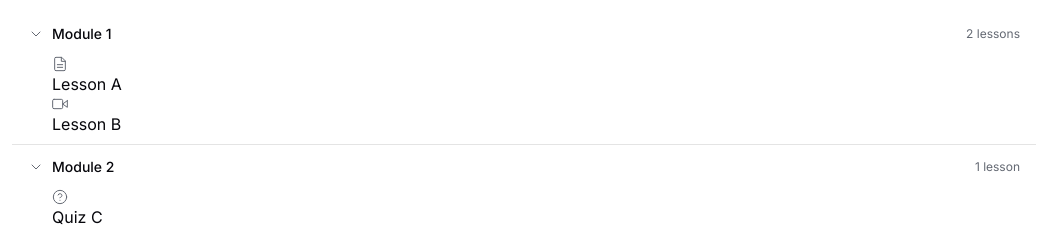
Scenario: ModuleList › collapses module on click
expect the text "Lesson A" is shown: met, box left=52, top=74, right=122, bottom=94
Note: Click to collapse Module 1
Click the text "Module 1" at (82, 34), box left=52, top=24, right=112, bottom=44
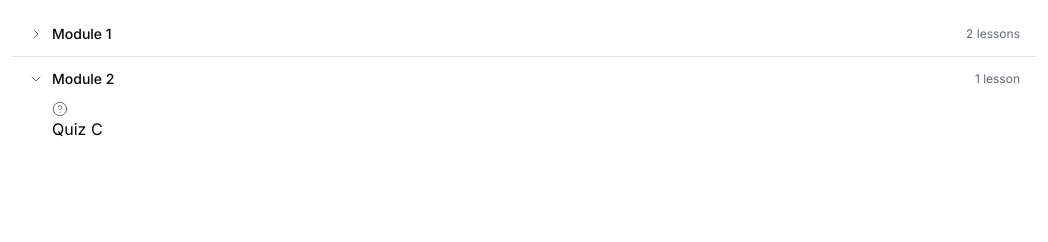
expect the text "Quiz C" is shown: met, box left=52, top=119, right=103, bottom=139
expect the link "Lesson A" is gone: met
